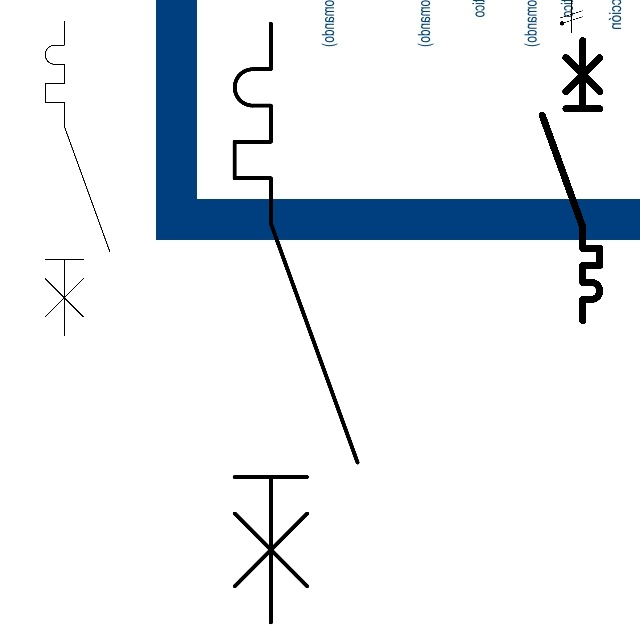interruptor_termomagnetico: (219, 8, 373, 638), (37, 13, 118, 344), (535, 33, 607, 328)
